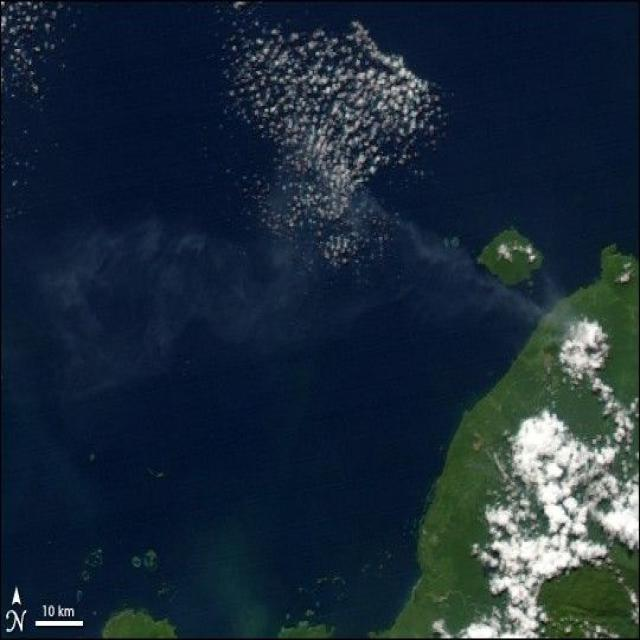oil spill: (44, 219, 476, 365), (402, 223, 558, 323)
